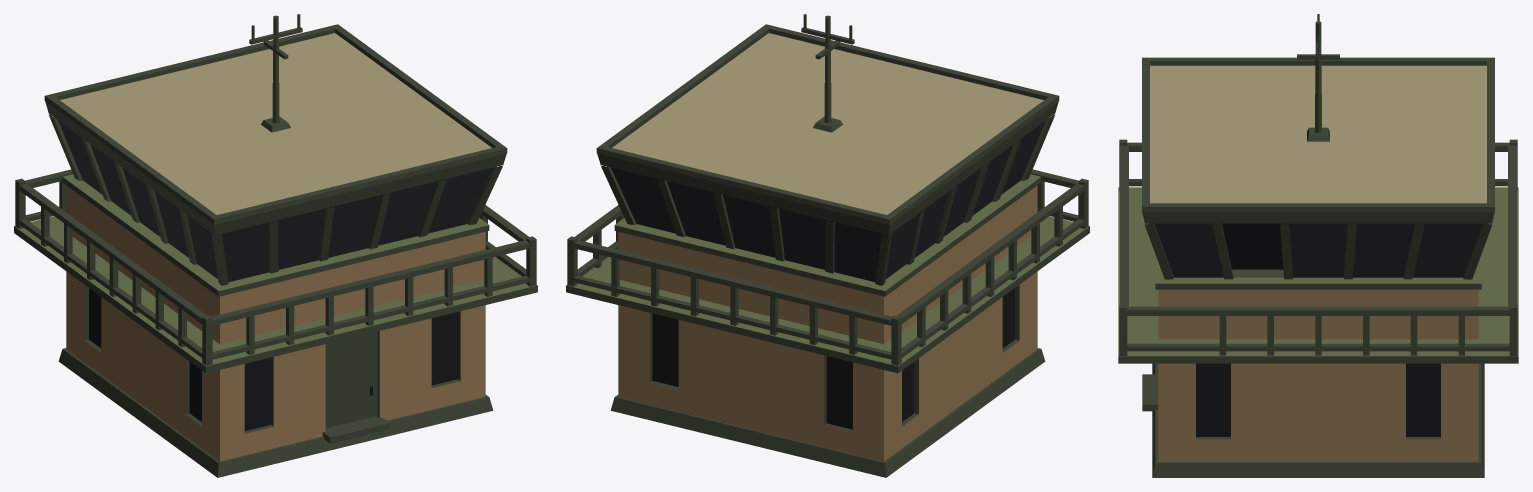
File: airfield-control-tower-ab8d3e.glb
3 renders of one model, left to right at view 1: azimuth 30°, elevation 25°; view 2: azimuth 150°, elevation 25°; view 3: azimuth 270°, elevation 25°, orthographic. The views are drawn at different scales.
Parts seen in each view (by area): view 1: tower, door-leaf, mast-mesh; view 2: tower, mast-mesh; view 3: tower, mast-mesh.
Part boxes in pixels (x1,y1,x2,y2): tower: [14, 24, 537, 477]; door-leaf: [325, 331, 377, 428]; mast-mesh: [249, 14, 302, 132]; tower: [566, 24, 1089, 477]; mast-mesh: [801, 14, 854, 132]; tower: [1118, 57, 1518, 477]; mast-mesh: [1297, 14, 1339, 141].
Size of the model in its own units: 8 by 8.5 by 8.
